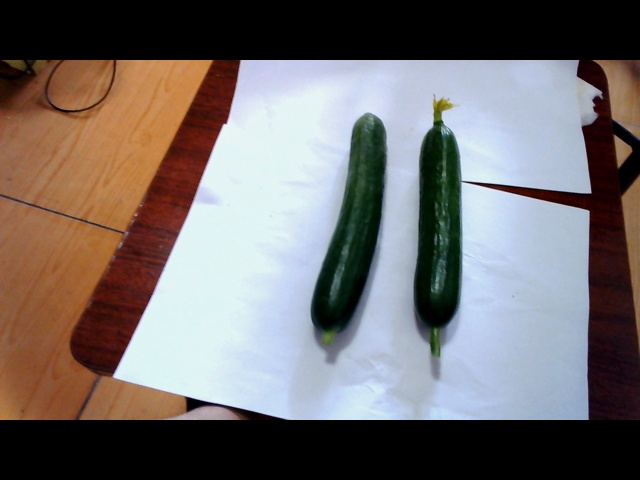cucumber: (310, 102, 400, 349), (403, 122, 474, 371)
